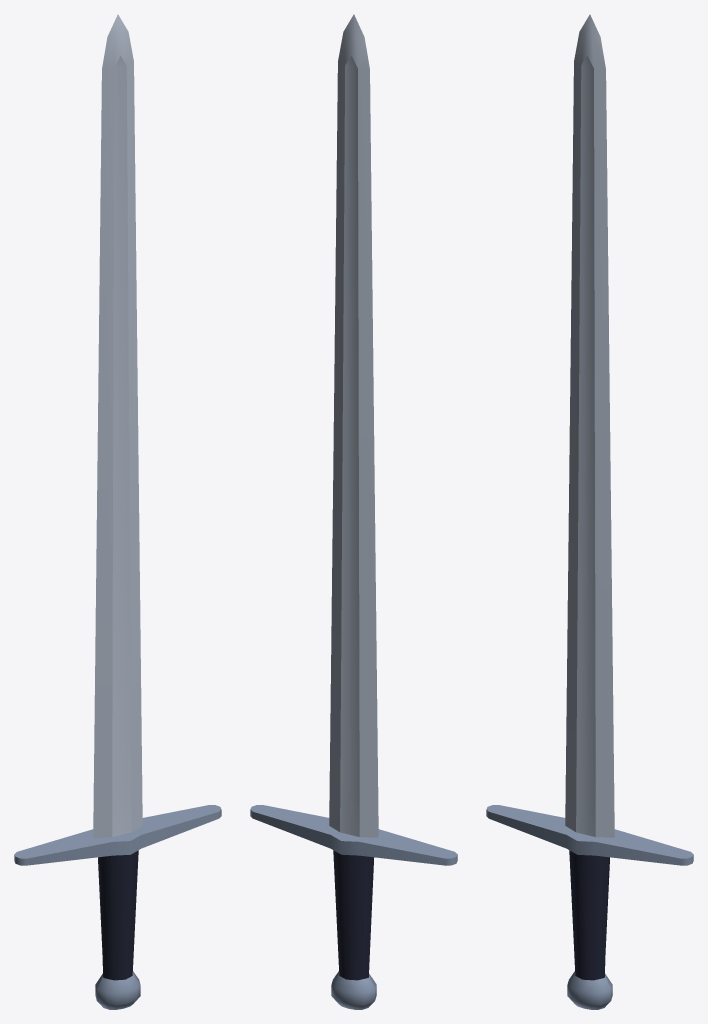
File: BasicSword.fbx
3 views of the same model, side by side, from view 1: azimuth 30°, elevation 25°; view 2: azimuth 150°, elevation 25°; view 3: azimuth 330°, elevation 25° (orthographic).
Visible parts, largest first — view 1: BasicSword; view 2: BasicSword; view 3: BasicSword.
Part boxes in pixels (bbox=[...]): BasicSword: bbox=[14, 14, 221, 1009]; BasicSword: bbox=[250, 14, 457, 1009]; BasicSword: bbox=[486, 14, 693, 1009].
Size of the model in its own units: 21.87 by 101 by 4.67.
